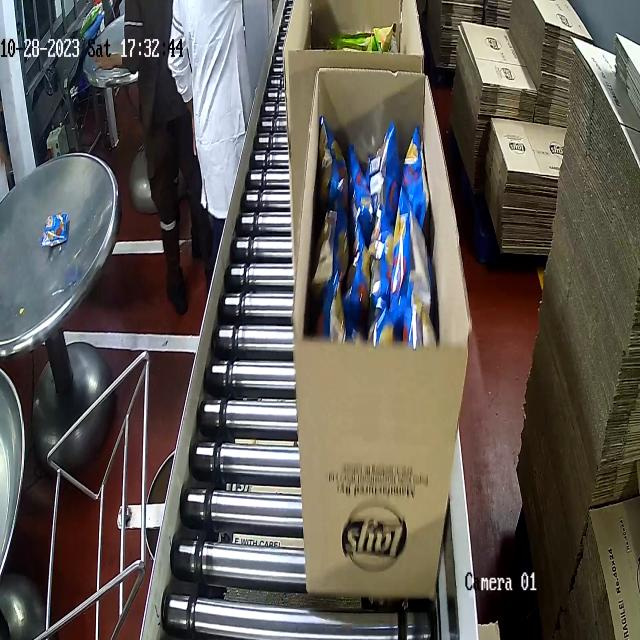PAPRIKA: (312, 114, 450, 363)
